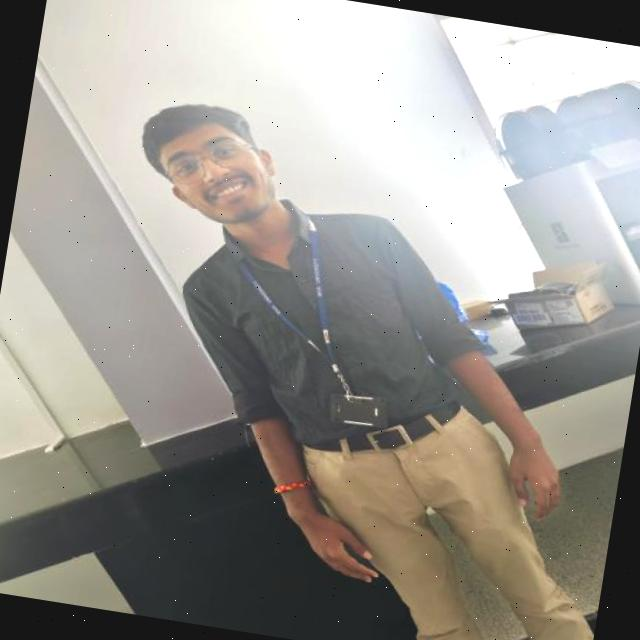Card: (330, 393, 387, 428)
Id strap: (309, 221, 352, 398)
